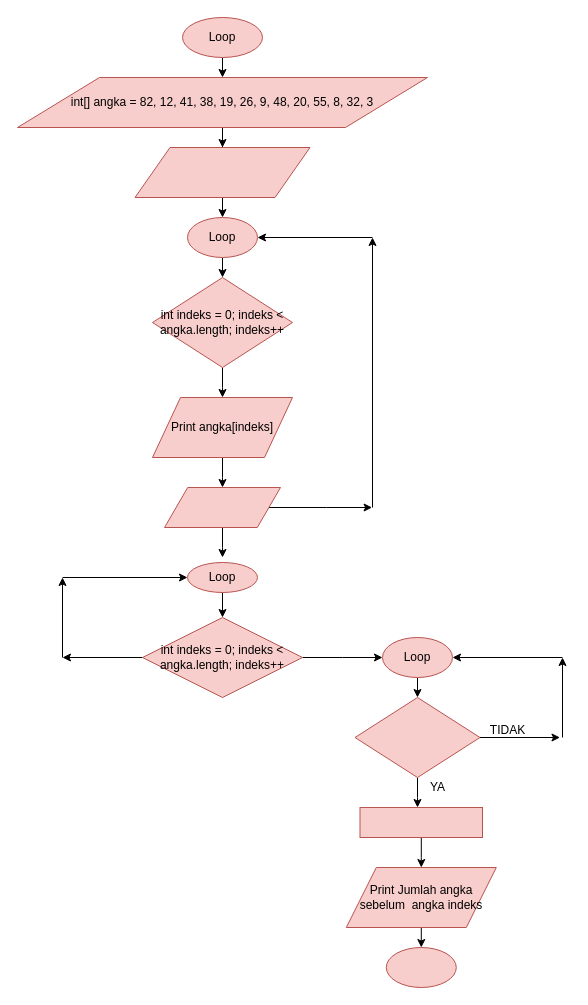
Image size: 588x1005. Some labels were removed from this diagram. Each missing label, with the box of its shape:
if (angka[indeks] < angka.length): (354, 696, 480, 778)
int jumlah = 0: (164, 486, 280, 528)
jumlah = angka - angka[indeks]: (359, 806, 482, 838)
Print nilai array: (134, 146, 310, 198)
Selesai: (385, 946, 456, 988)
